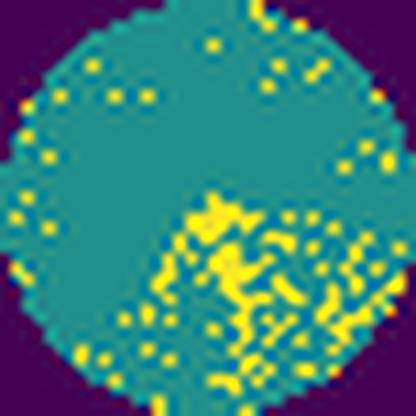Loc: (152, 187, 263, 304), (199, 242, 275, 356)
